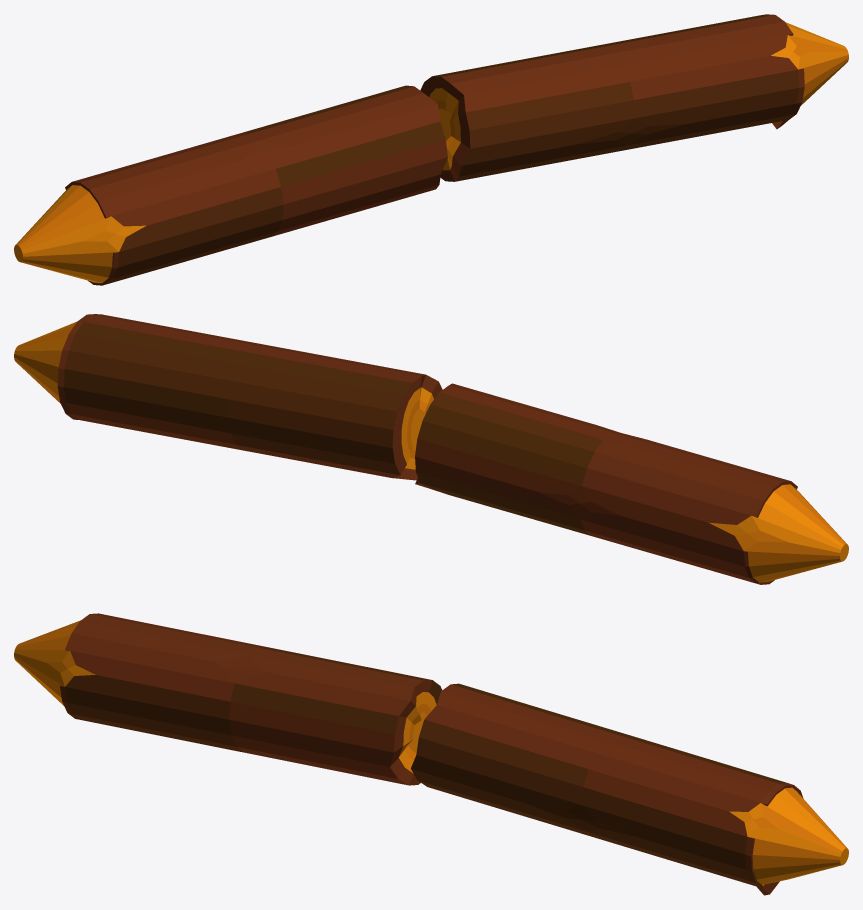
File: Broken log_29.fbx
3 views of the same model, one above another, from view 1: azimuth 30°, elevation 25°; view 2: azimuth 150°, elevation 25°; view 3: azimuth 330°, elevation 25° (orthographic).
Visible parts, largest first — view 1: Circle.407, Circle.412; view 2: Circle.407, Circle.412; view 3: Circle.412, Circle.407.
Part boxes in pixels (bbox=[...]): Circle.407: bbox=[14, 85, 447, 285]; Circle.412: bbox=[420, 14, 848, 181]; Circle.407: bbox=[415, 383, 848, 584]; Circle.412: bbox=[14, 314, 442, 480]; Circle.412: bbox=[411, 683, 848, 895]; Circle.407: bbox=[14, 613, 442, 785].
Size of the model in its own units: 226 by 32.32 by 25.71.
